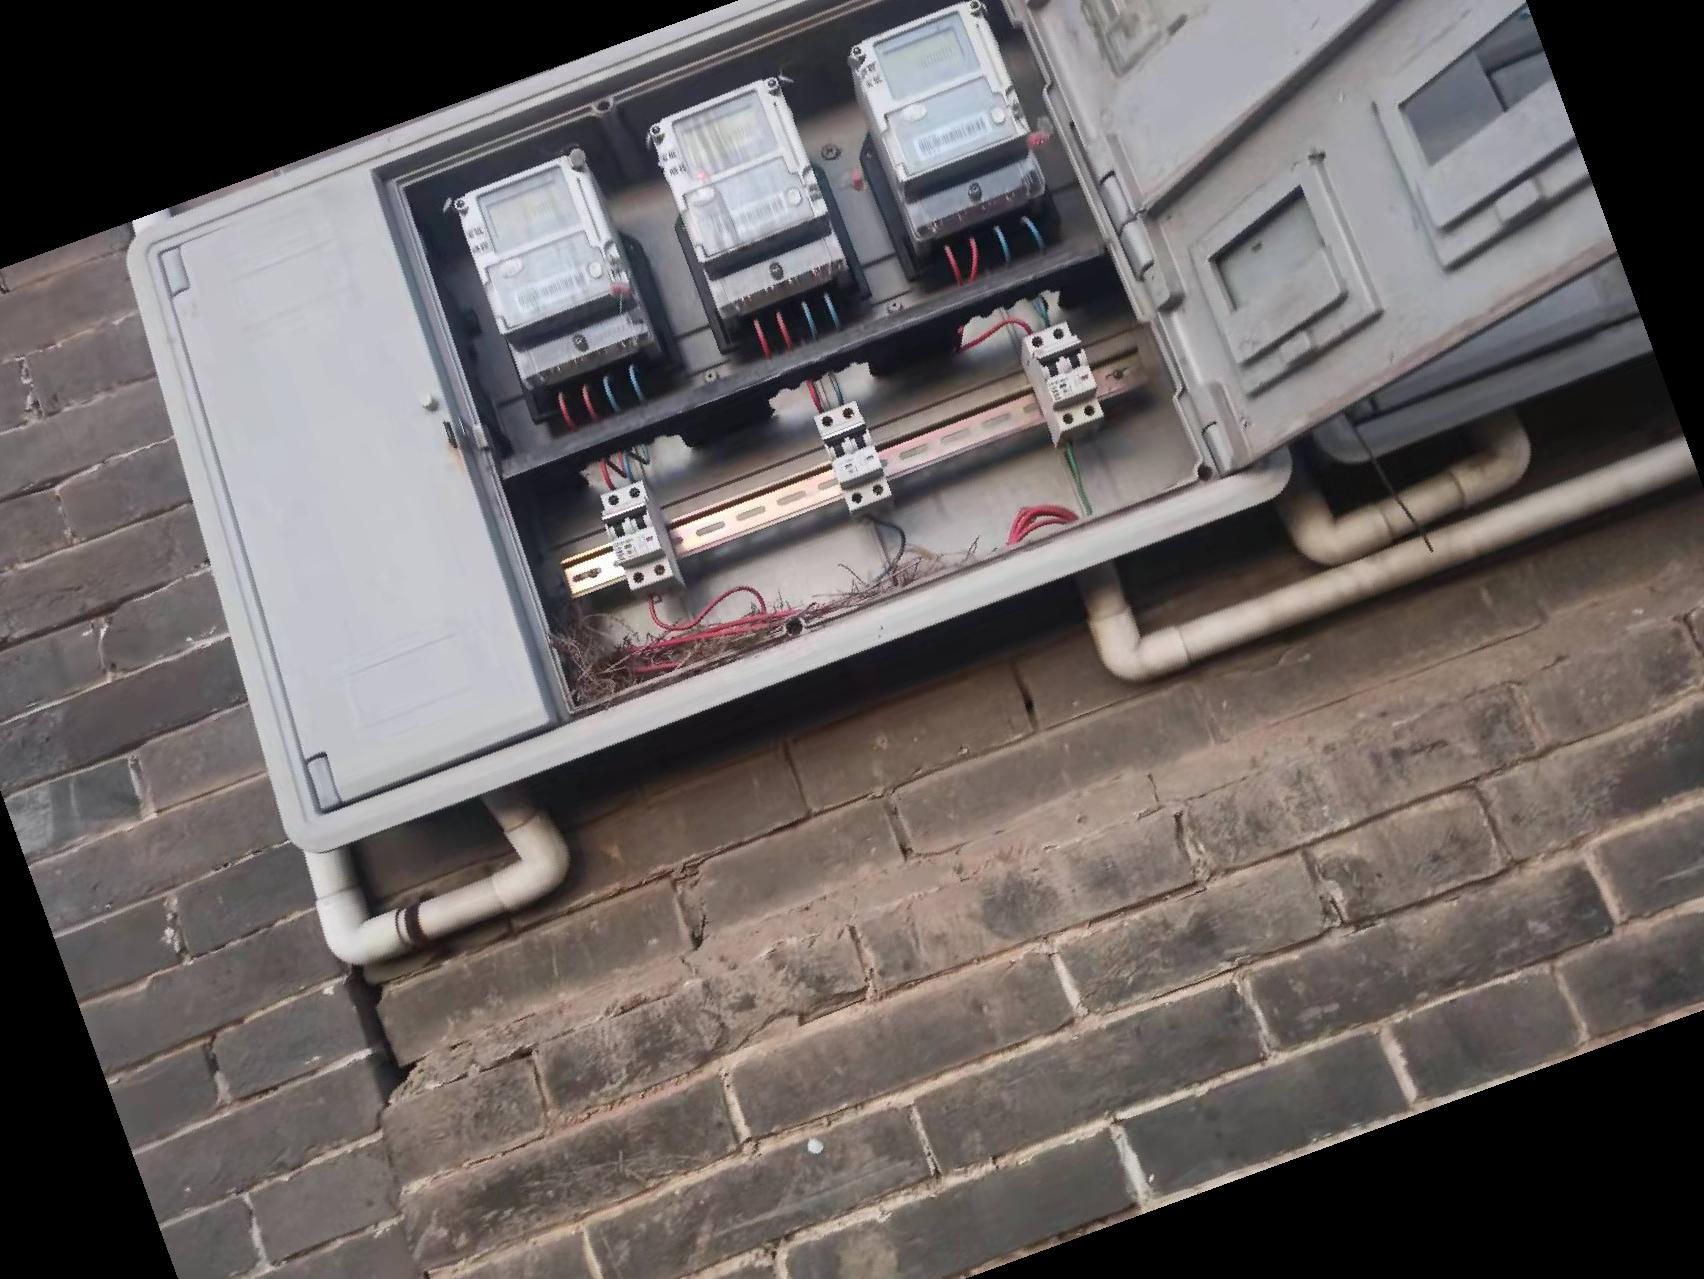digital: (851, 3, 1029, 187), (653, 77, 829, 261), (454, 157, 627, 339)
